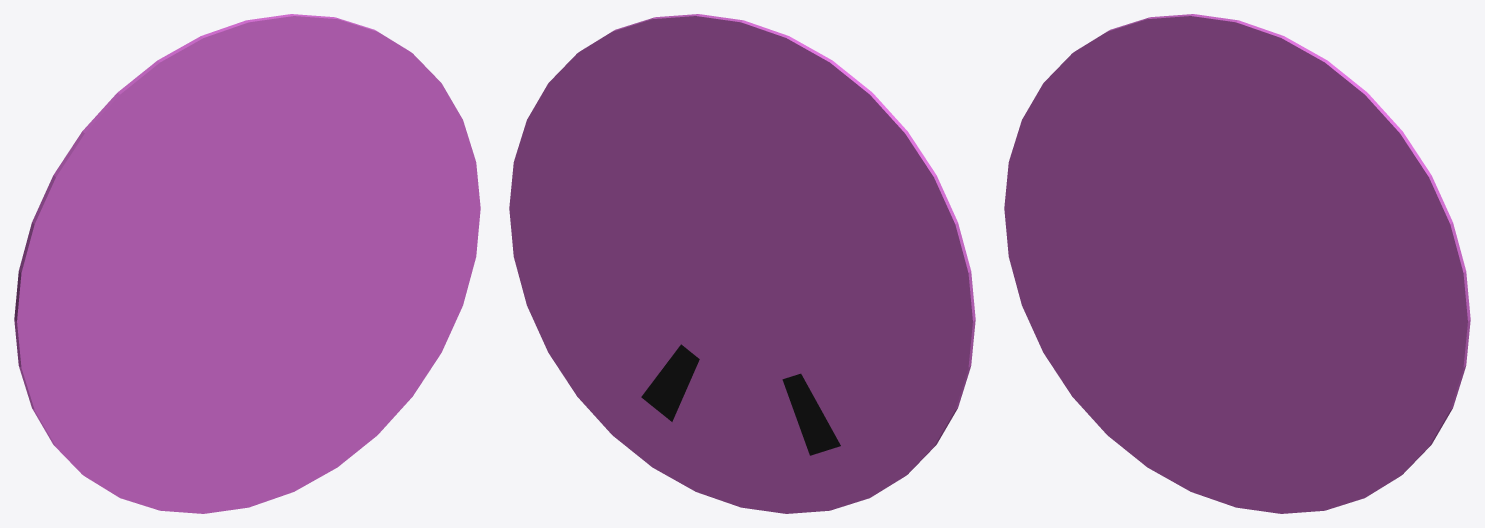
Rendered from SplashMainCharacter.fbx.
3 renders of one model, left to right at view 1: azimuth 30°, elevation 25°; view 2: azimuth 150°, elevation 25°; view 3: azimuth 330°, elevation 25°, orthographic.
Parts seen in each view (by area): view 1: Circle; view 2: Circle; view 3: Circle.
Part boxes in pixels (left/top/right/bottom): Circle: left=14, top=14, right=480, bottom=513; Circle: left=509, top=14, right=975, bottom=513; Circle: left=1004, top=14, right=1470, bottom=513.
Size of the model in its own units: 52.37 by 52.37 by 0.5344.
